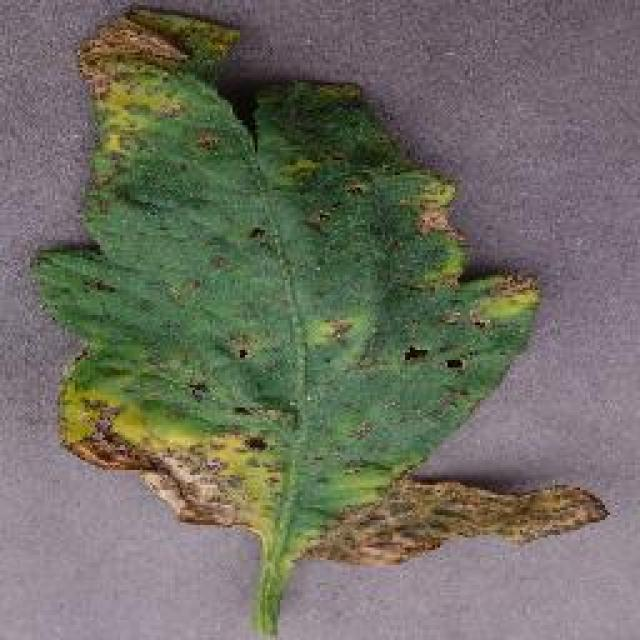Tomato bacterial spot leaf: (25, 3, 616, 578)
